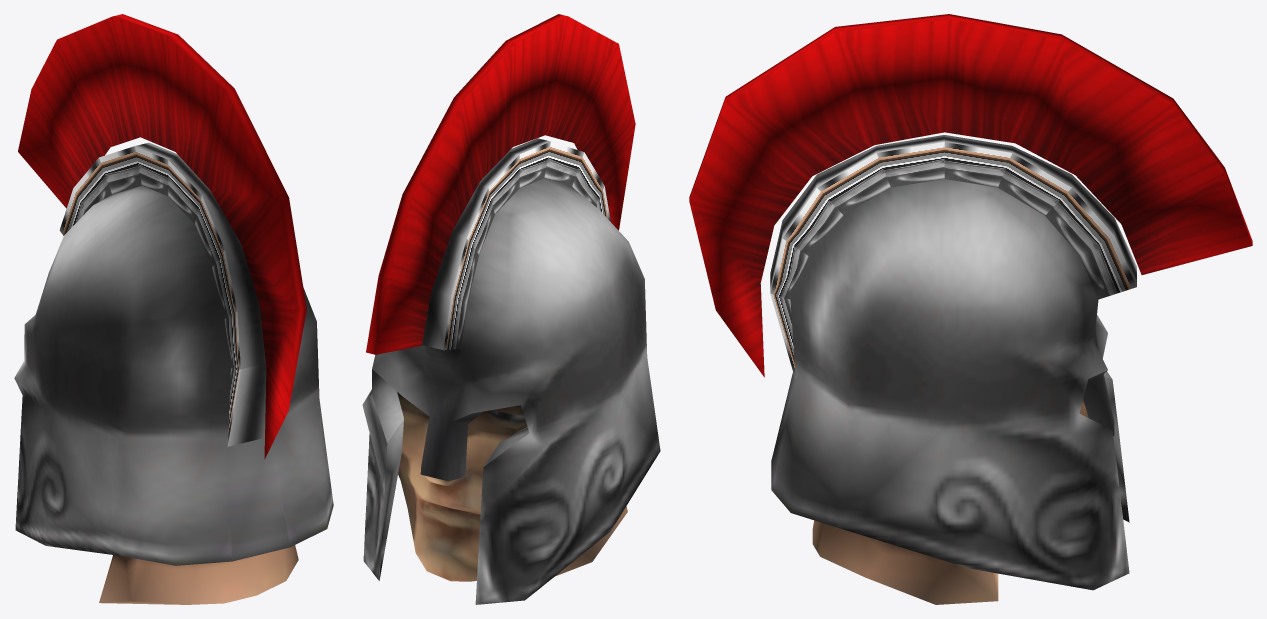
The model's file is bh_icon.ICO.obj.
3 renders of one model, left to right at view 1: azimuth 30°, elevation 25°; view 2: azimuth 150°, elevation 25°; view 3: azimuth 270°, elevation 25°, orthographic. The views are drawn at different scales.
Size of the model in its own units: 2.16 by 4.95 by 4.44.
Materials: 1 (1 with a texture image).
